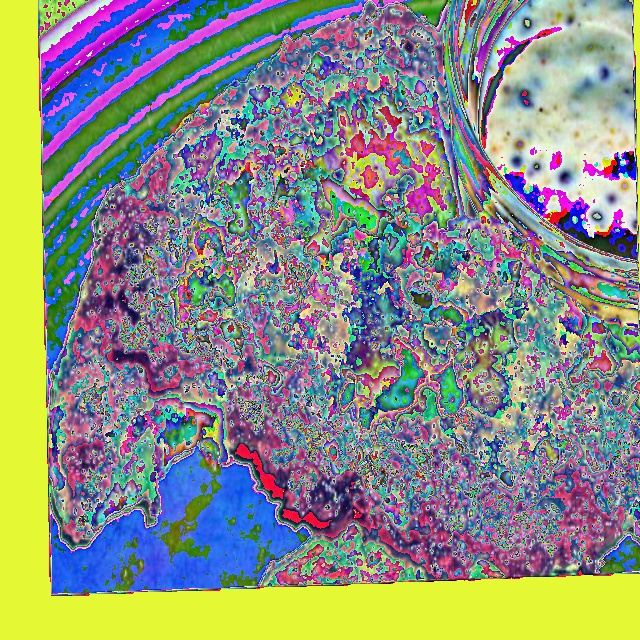background: (48, 2, 639, 586), (162, 0, 638, 265)
